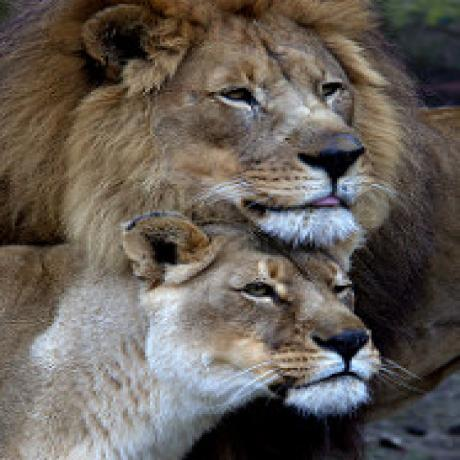Lion: (0, 0, 460, 242), (0, 211, 377, 460)
